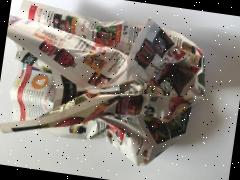paper: (0, 0, 221, 179)
